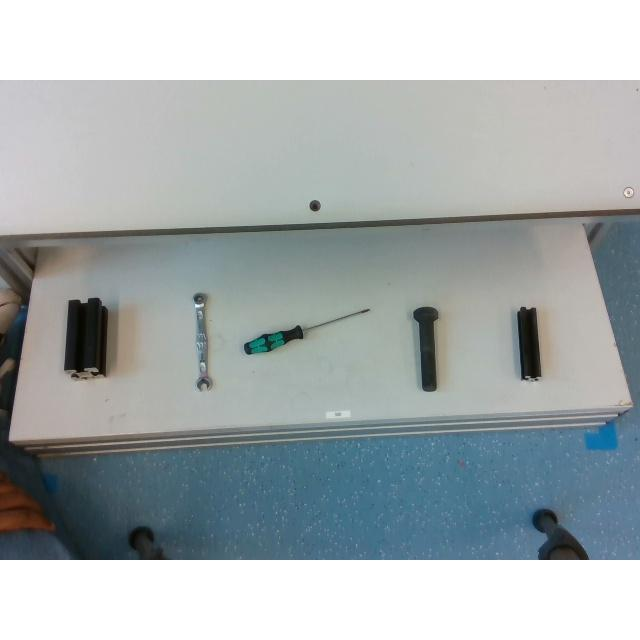F20_20_B: (516, 306, 540, 378)
M20_100: (413, 306, 437, 390)
S40_40_B: (62, 297, 106, 377)
Screwdriver: (243, 308, 369, 352)
Wrench: (192, 293, 212, 389)
